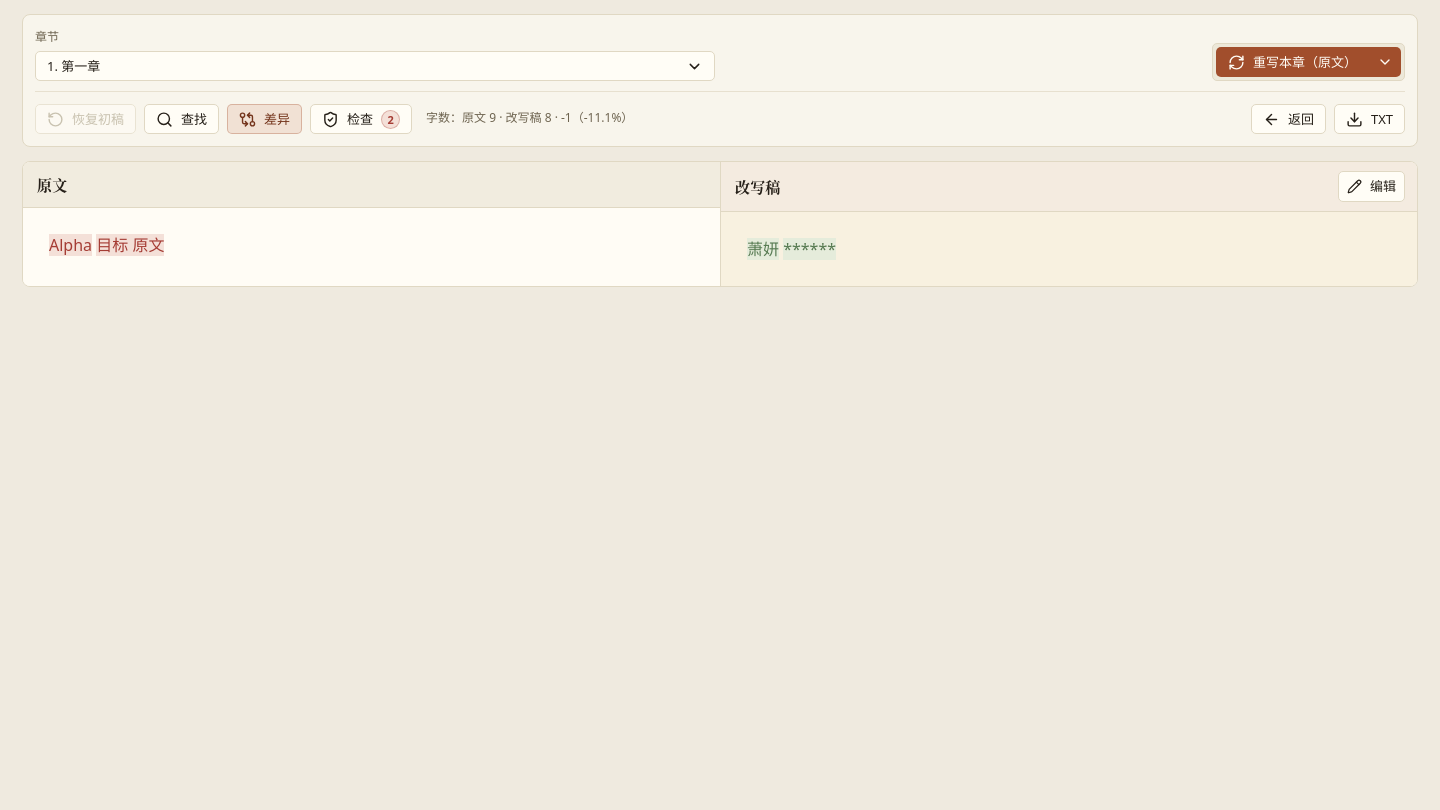
Test case: CompareView › ignores current quality issues across filters and updates counts
Click the button "检查 2" at (361, 119), box [310,104,412,134]
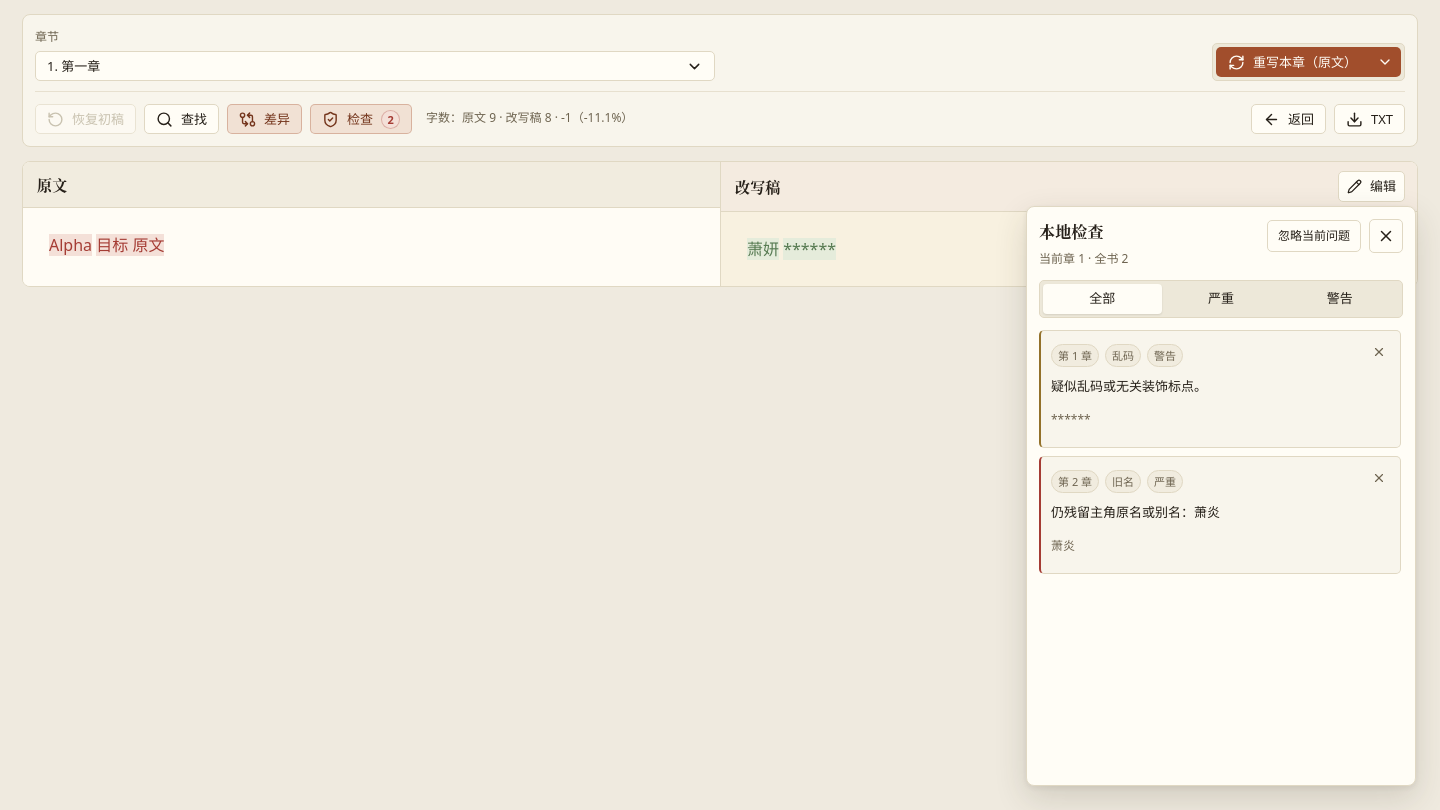
Now the element named "本地质量检查" shows "当前章 1 · 全书 2", box [1026,206,1416,786]
Click the button "警告" at (1340, 299), box [1280,284,1399,314]
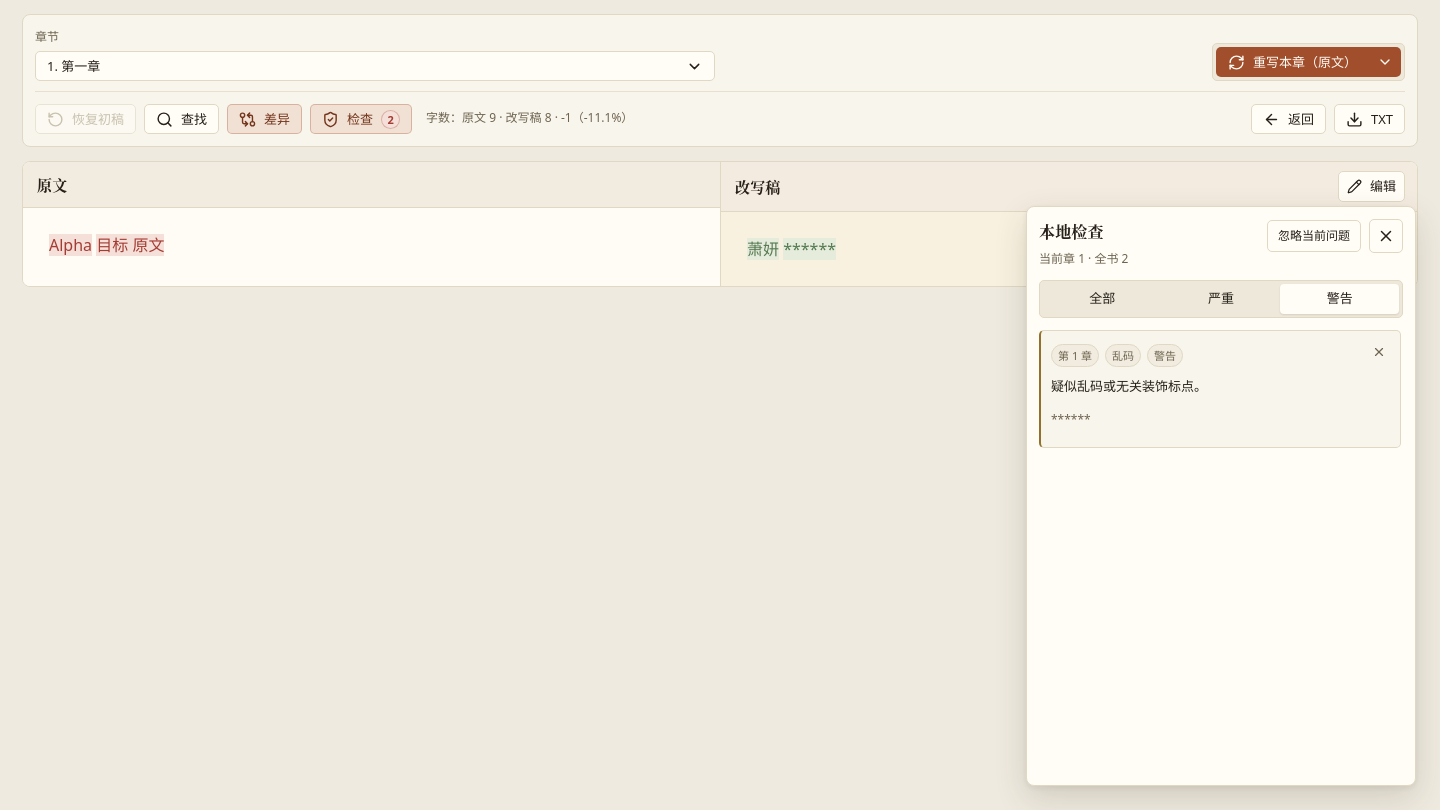
Now the button "仍残留主角原名或别名：萧炎" is gone
Click the button "忽略当前问题" at (1314, 236), box [1267,220,1361,252]
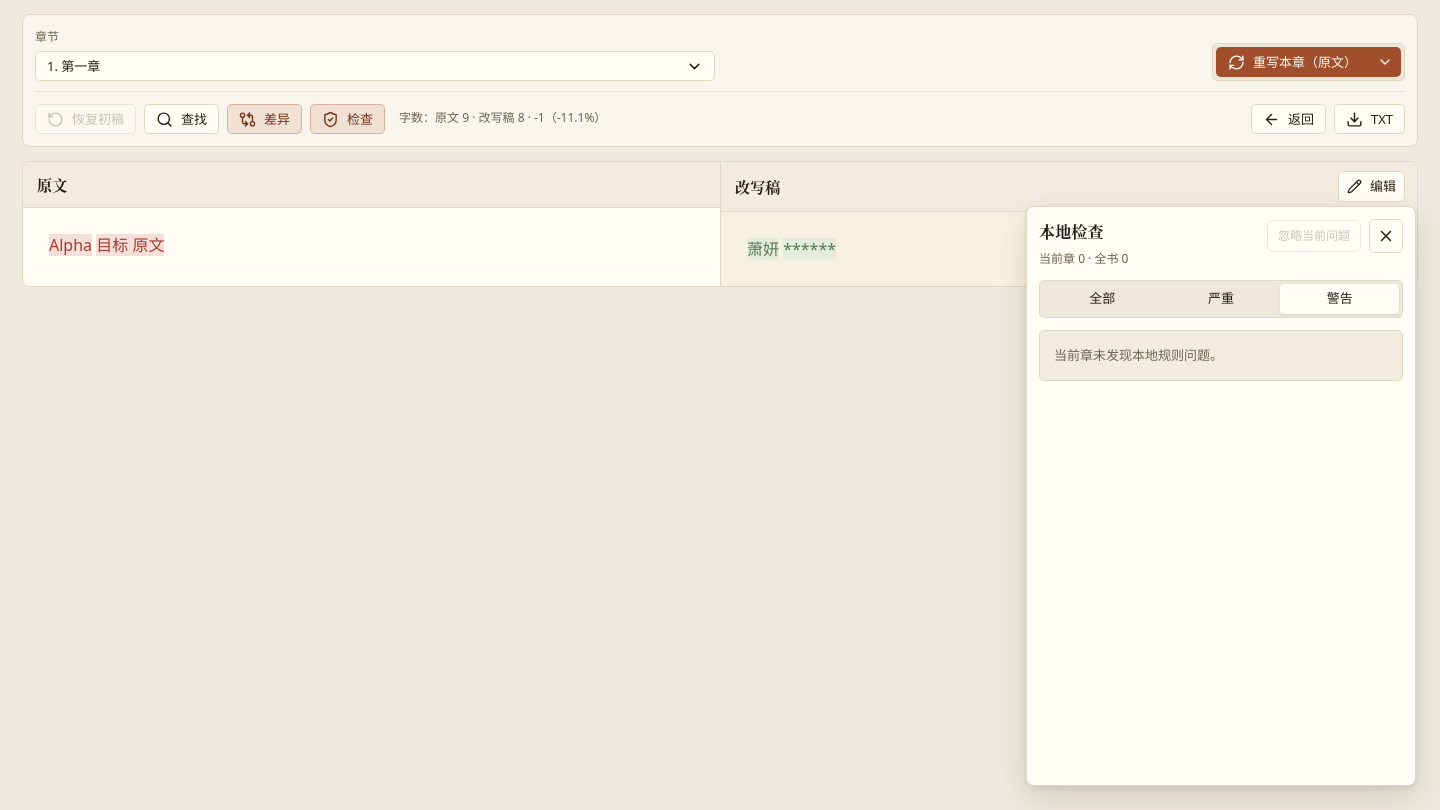
Expected: the button "检查" is shown, [310,104,385,134]
Now the element named "本地质量检查" shows "当前章 0 · 全书 0", box [1026,206,1416,786]
Now the element named "本地质量检查" shows "当前章未发现本地规则问题。", box [1054,346,1223,364]
